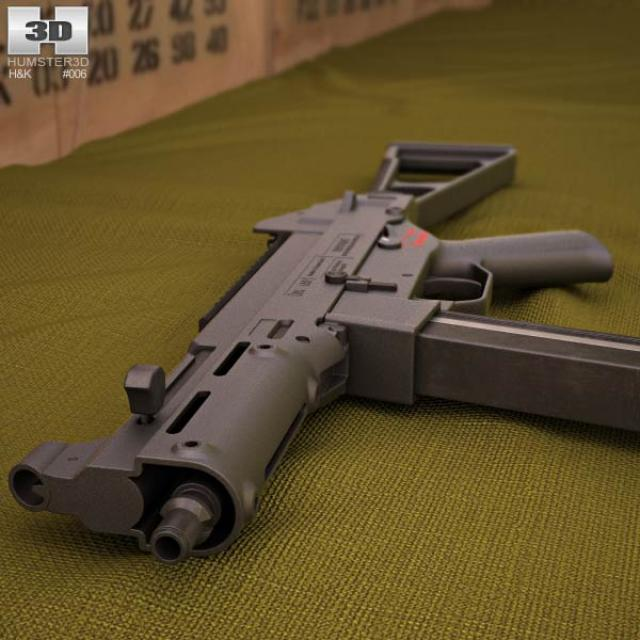SMG: (12, 142, 640, 567)
